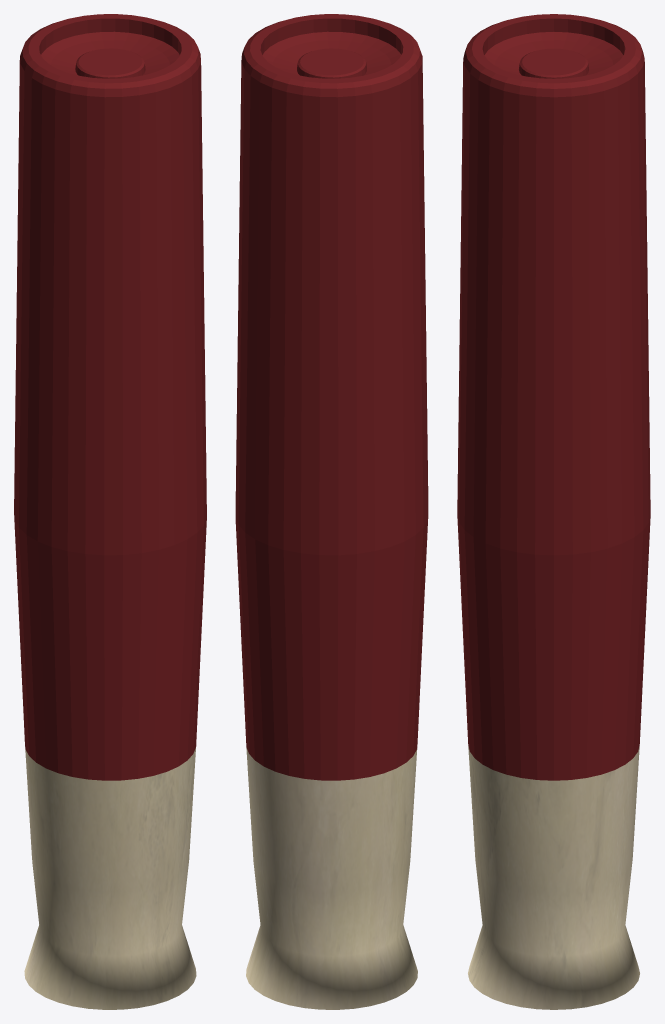
File: SHOTGUN BULLET.fbx
3 renders of one model, left to right at view 1: azimuth 30°, elevation 25°; view 2: azimuth 150°, elevation 25°; view 3: azimuth 270°, elevation 25°, orthographic.
Parts seen in each view (by area): view 1: SHOTGUN BULLET; view 2: SHOTGUN BULLET; view 3: SHOTGUN BULLET.
Boxes of the visible parts, bbox=[...] form: SHOTGUN BULLET: bbox=[14, 14, 206, 1009]; SHOTGUN BULLET: bbox=[235, 14, 428, 1009]; SHOTGUN BULLET: bbox=[457, 14, 650, 1009].
Bounding box in the file's own units: 1.99 × 10.49 × 1.99.
